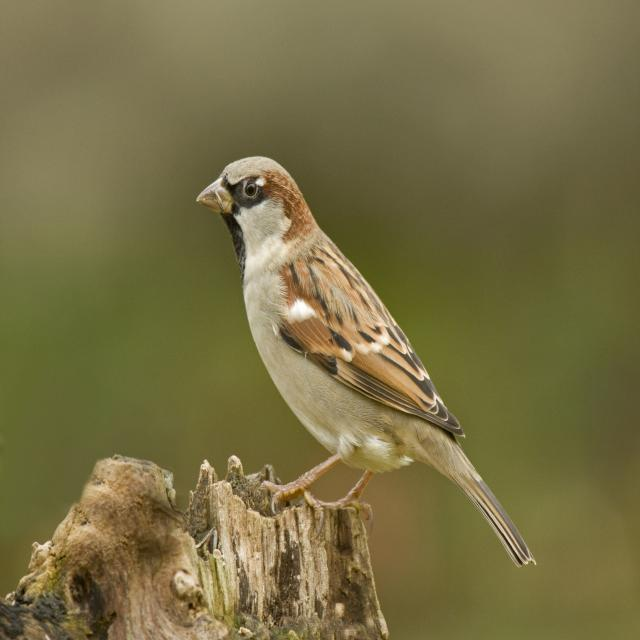Sparrow: (198, 148, 544, 590)
